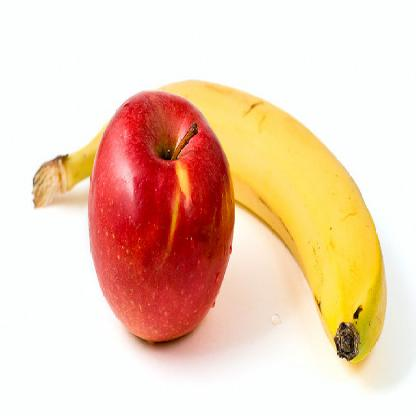banana: (78, 81, 399, 364), (93, 90, 240, 349)
